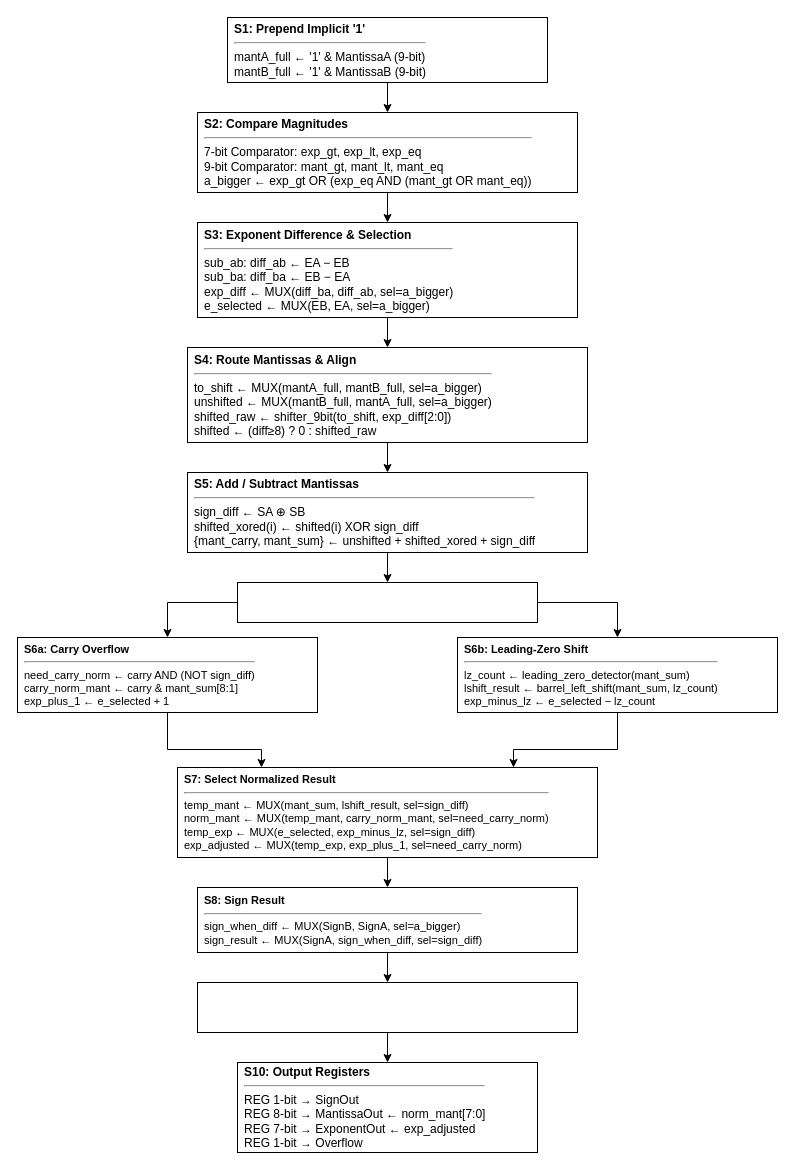
This 795x1170 diagram has some shape labels left out. Here are the shapes that lost their labels. From the top down, the centre of each, then its label:
At (x=387, y=602): "S6: Normalize".
At (x=387, y=1007): "S9: Overflow overflow ← need_carry_norm AND exp_plus_1_carry".
